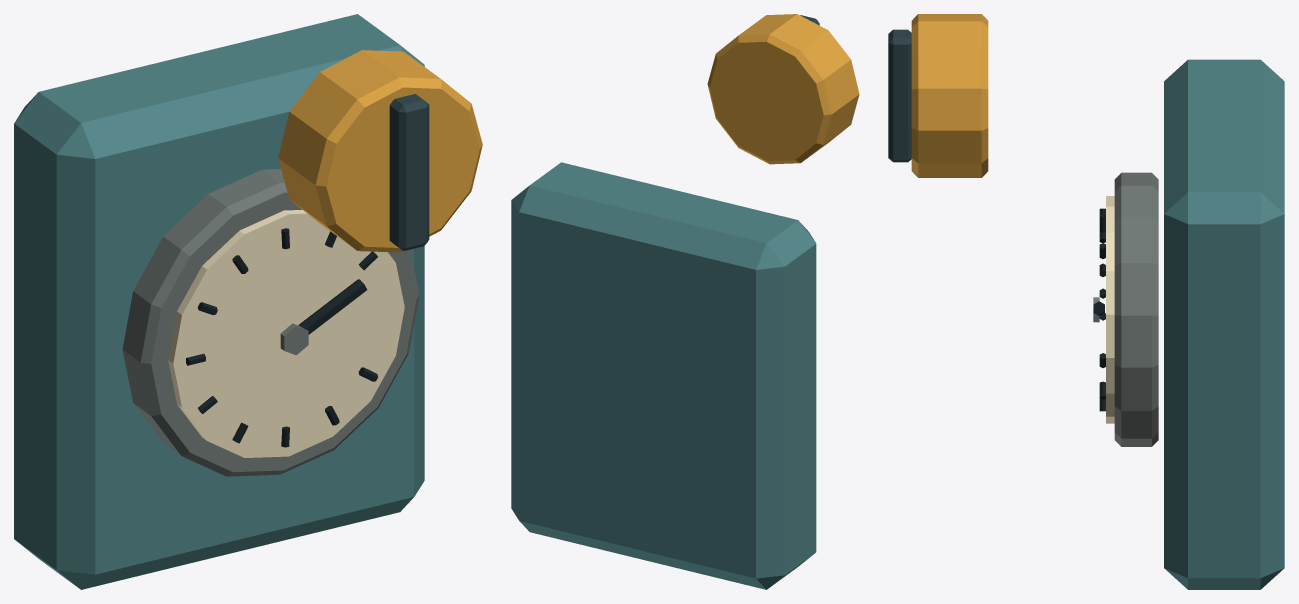
File: rotary-control.glb
3 views of the same model, side by side, from view 1: azimuth 30°, elevation 25°; view 2: azimuth 150°, elevation 25°; view 3: azimuth 270°, elevation 25° (orthographic). The views are drawn at different scales.
Visible parts, largest first — view 1: rotary-control__rotary-control__petrol, rotary-control__rotary-control__gauge-face, rotary-control__rotary-knob__amber, rotary-control__rotary-control__hardware, rotary-control__rotary-knob__steel, rotary-control__rotary-control__rubber; view 2: rotary-control__rotary-control__petrol, rotary-control__rotary-knob__amber; view 3: rotary-control__rotary-control__petrol, rotary-control__rotary-knob__amber, rotary-control__rotary-control__hardware, rotary-control__rotary-knob__steel, rotary-control__rotary-control__gauge-face, rotary-control__rotary-control__rubber.
Boxes of the visible parts, x1=… form: rotary-control__rotary-control__petrol: x1=14, y1=14, x2=424, y2=589; rotary-control__rotary-control__gauge-face: x1=168, y1=210, x2=404, y2=457; rotary-control__rotary-knob__amber: x1=278, y1=50, x2=482, y2=252; rotary-control__rotary-control__hardware: x1=122, y1=169, x2=419, y2=476; rotary-control__rotary-knob__steel: x1=389, y1=94, x2=429, y2=250; rotary-control__rotary-control__rubber: x1=186, y1=228, x2=378, y2=447; rotary-control__rotary-control__petrol: x1=511, y1=162, x2=816, y2=589; rotary-control__rotary-knob__amber: x1=707, y1=14, x2=859, y2=164; rotary-control__rotary-control__petrol: x1=1164, y1=59, x2=1284, y2=589; rotary-control__rotary-knob__amber: x1=911, y1=14, x2=988, y2=177; rotary-control__rotary-control__hardware: x1=1093, y1=172, x2=1158, y2=446; rotary-control__rotary-knob__steel: x1=888, y1=29, x2=911, y2=162; rotary-control__rotary-control__gauge-face: x1=1106, y1=196, x2=1114, y2=423; rotary-control__rotary-control__rubber: x1=1093, y1=208, x2=1105, y2=411.
Size of the model in its own units: 0.66 by 1.01 by 0.7225.
